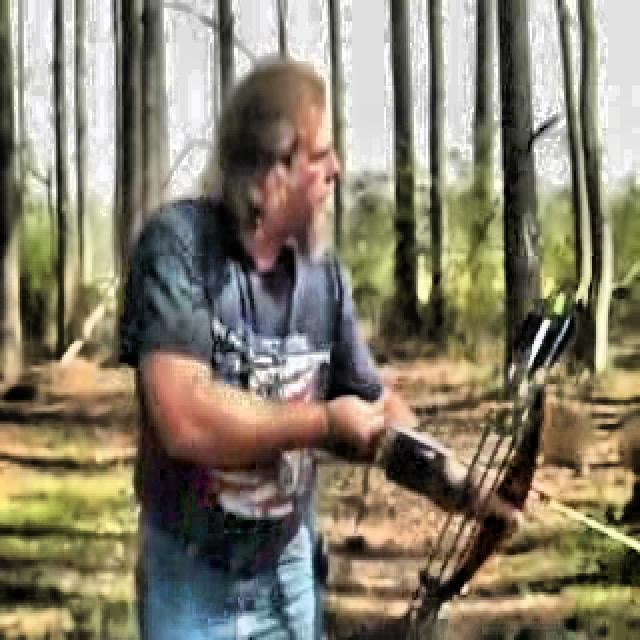I: (108, 39, 552, 640)
